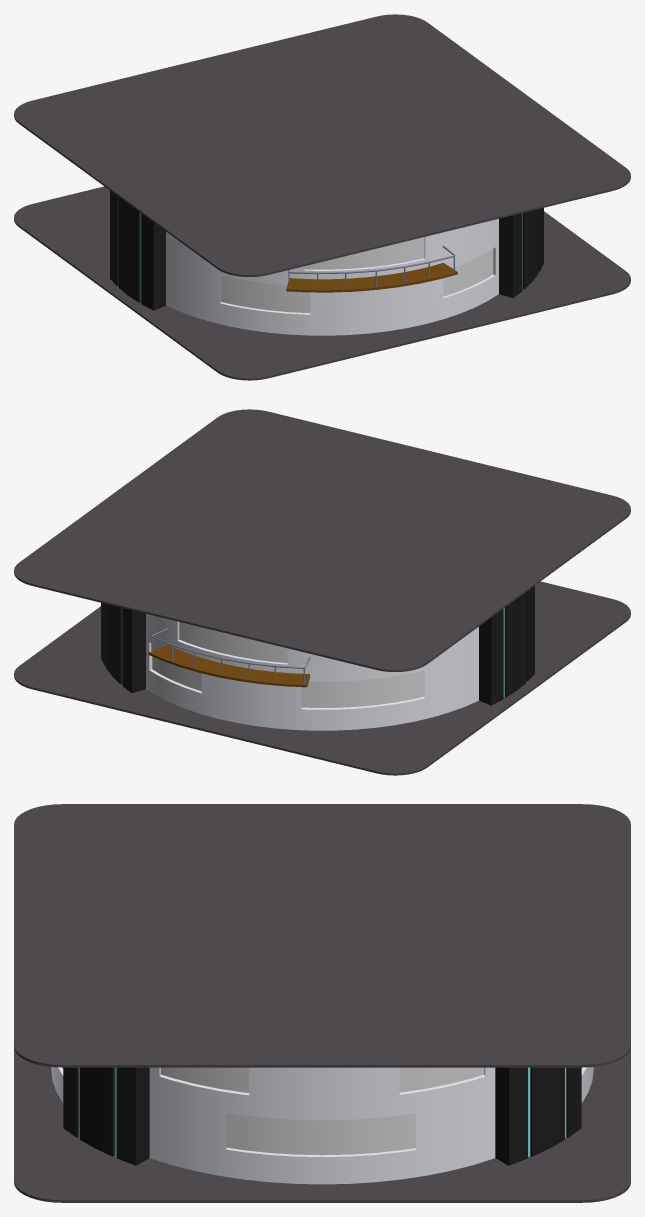
Rendered from SM_B_i5_mid.fbx.
3 renders of one model, top to bottom at view 1: azimuth 30°, elevation 25°; view 2: azimuth 150°, elevation 25°; view 3: azimuth 270°, elevation 25°, orthographic. The views are drawn at different scales.
Parts seen in each view (by area): view 1: Bui5_mid; view 2: Bui5_mid; view 3: Bui5_mid.
Part boxes in pixels (x1,y1,x2,y2): Bui5_mid: (14,14,630,380); Bui5_mid: (14,409,630,775); Bui5_mid: (14,804,630,1202).
Bounding box in the file's own units: 2100 × 518 × 2100.
